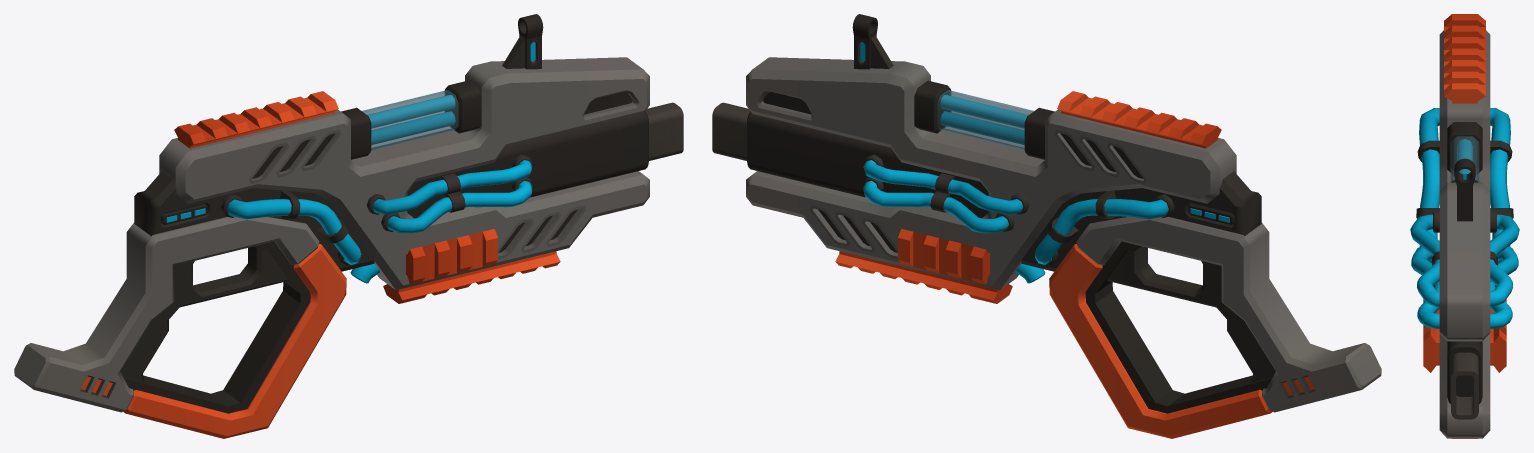
Rendered from SMG5_Base.fbx.
The picture shows the model from 3 angles, left to right: view 1: azimuth 30°, elevation 25°; view 2: azimuth 150°, elevation 25°; view 3: azimuth 270°, elevation 25°; orthographic projection. The views are drawn at different scales.
Parts seen in each view (by area): view 1: SMG5_Base; view 2: SMG5_Base; view 3: SMG5_Base.
Boxes of the visible parts, x1,y1,x2,y2 form: SMG5_Base: [14, 14, 683, 438]; SMG5_Base: [712, 14, 1381, 438]; SMG5_Base: [1410, 14, 1519, 438].
Size of the model in its own units: 50.36 by 24.89 by 6.85.
